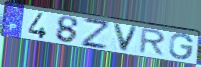4: (27, 11, 48, 40)
8: (56, 16, 80, 44)
G: (168, 33, 195, 61)
R: (137, 28, 168, 57)
V: (111, 22, 140, 54)
Z: (81, 17, 110, 51)
